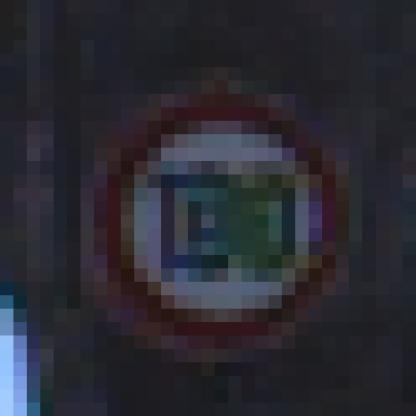Speed Limit 100: (98, 94, 344, 346)
